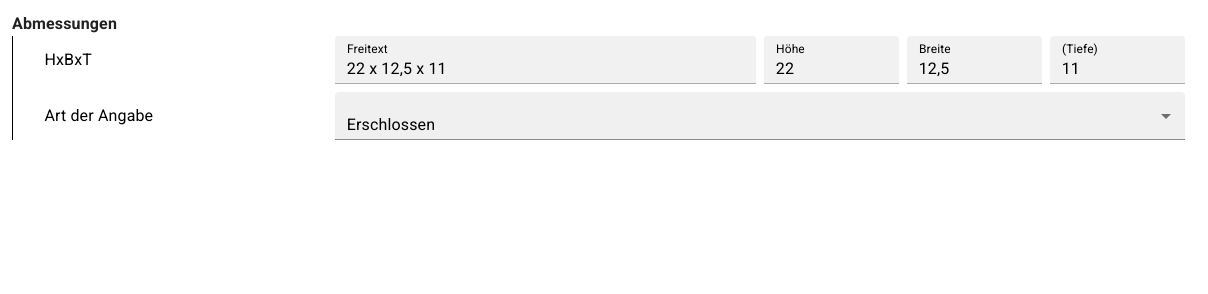
Abmessungen › has select with three different options
Click the dropdown: click(391, 124) [347,115,435,134]
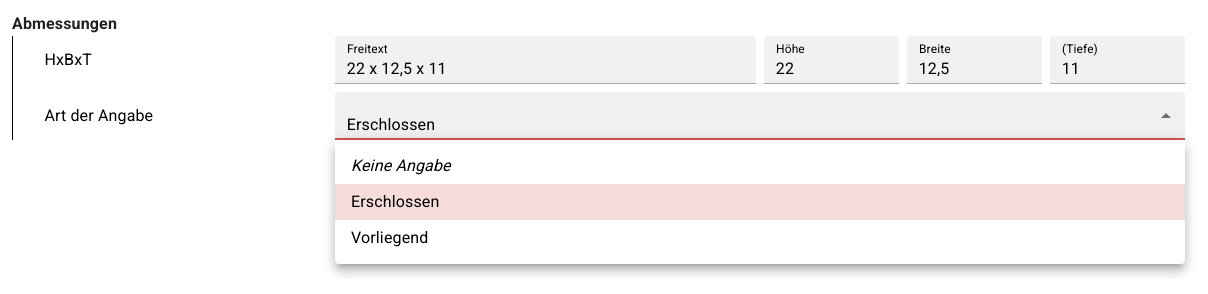
Result: the option "Erschlossen" is shown at [335,184,1185,220]
Result: the option "Vorliegend" is shown at [351,228,428,247]
Result: the option "Keine Angabe" is shown at [351,156,451,175]
